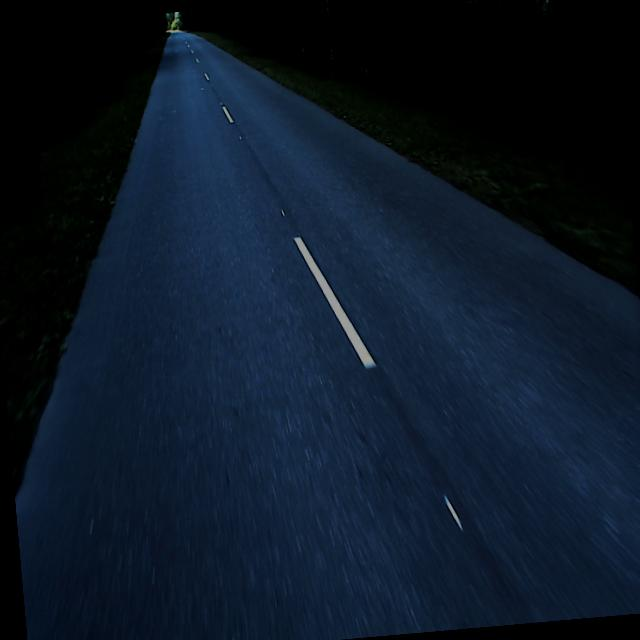road: (14, 31, 640, 640)
